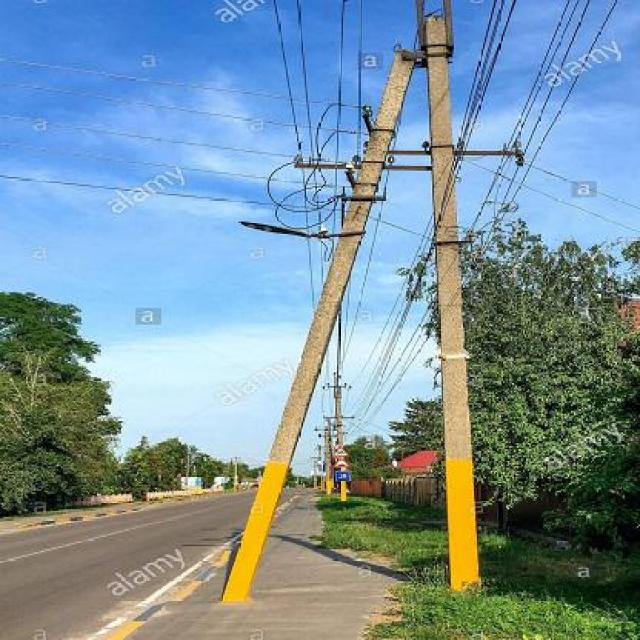pole: (223, 38, 414, 600), (408, 5, 520, 583)
